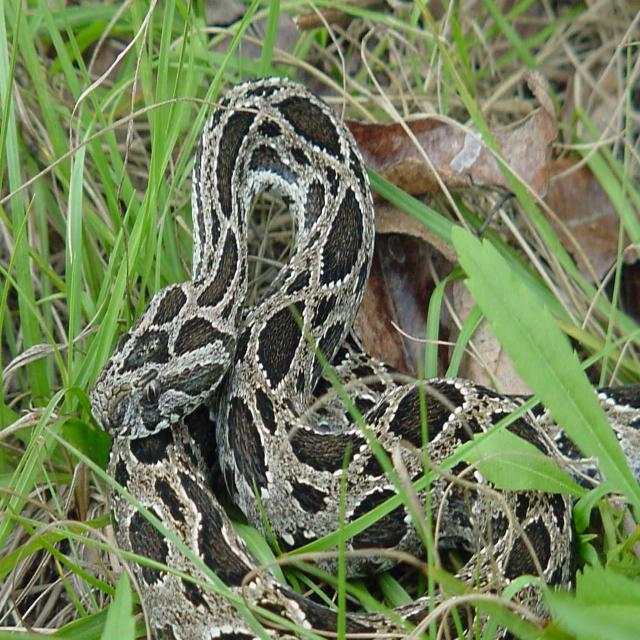Snake: (88, 74, 605, 638)
